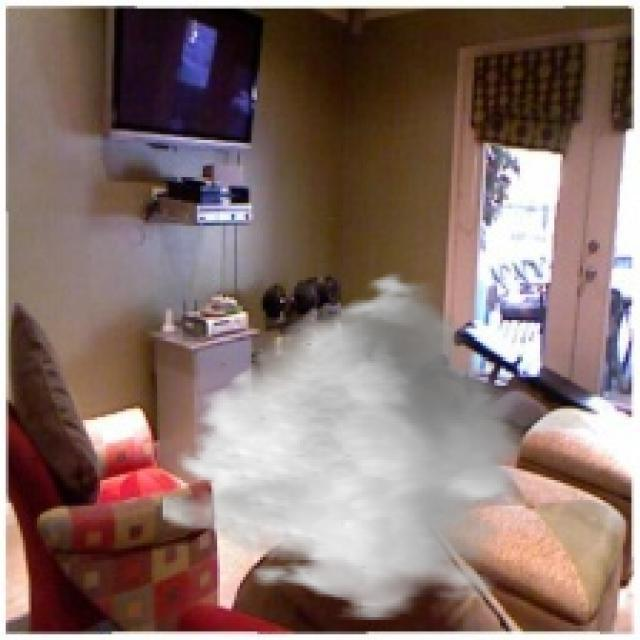Smoke: (160, 266, 529, 620)
